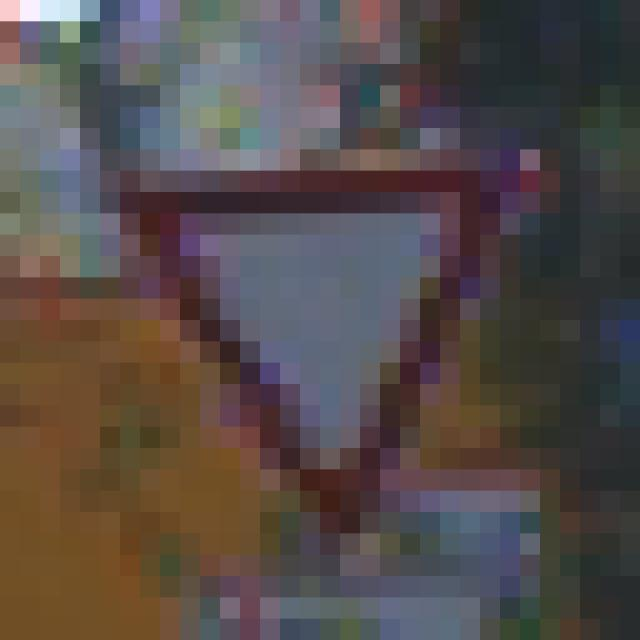Give Way: (121, 129, 541, 534)
